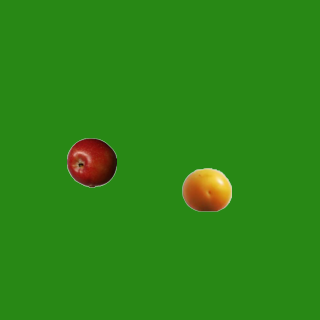Apple Braeburn: (66, 137, 116, 187)
Cherry Wax Yellow: (181, 164, 231, 214)
